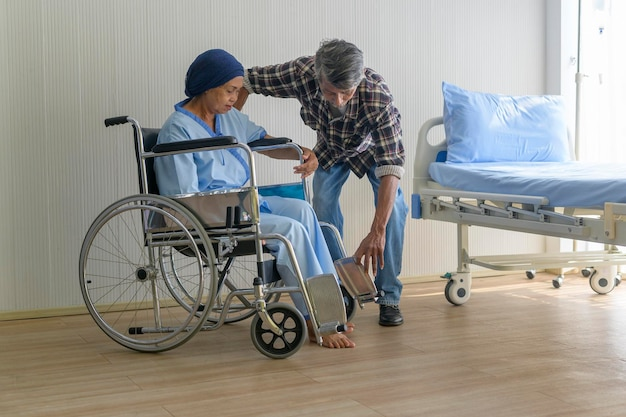wheelchair: (78, 48, 356, 359)
